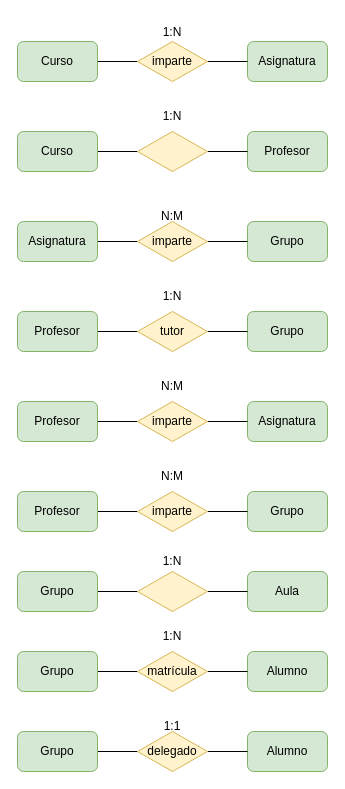
Some shapes in this 345 by 789 pixel diagram are drawn without their labels. Each missing label, with the box of its shape:
coordina: (136, 130, 208, 172)
ubica: (136, 570, 208, 612)
